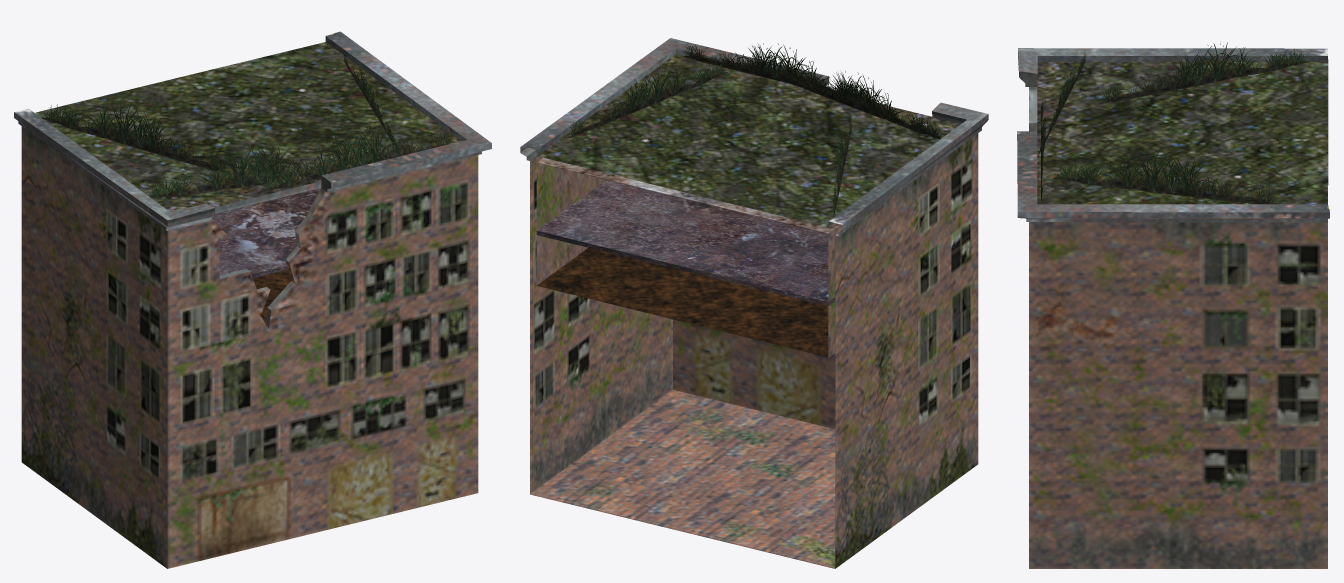
The model's file is Apocalypse_City_Building.FBX.
The picture shows the model from 3 angles, left to right: view 1: azimuth 30°, elevation 25°; view 2: azimuth 150°, elevation 25°; view 3: azimuth 270°, elevation 25°; orthographic projection. The views are drawn at different scales.
Parts seen in each view (by area): view 1: Box001, Box002, Plane003, Plane002, Plane001, Plane004; view 2: Box001, Box002, Plane001, Plane004, Plane002, Plane003; view 3: Box001, Plane004, Plane003, Plane002.
Boxes of the visible parts, x1,y1,x2,y2 form: Box001: [14, 31, 491, 568]; Box002: [212, 188, 320, 278]; Plane003: [41, 101, 225, 172]; Plane002: [148, 141, 360, 198]; Plane001: [258, 127, 453, 193]; Plane004: [343, 51, 398, 150]; Box001: [520, 38, 988, 568]; Box002: [536, 180, 835, 306]; Plane001: [684, 42, 877, 103]; Plane004: [567, 62, 727, 138]; Plane002: [781, 65, 941, 139]; Plane003: [832, 116, 852, 217]; Box001: [1017, 48, 1329, 568]; Plane004: [1053, 147, 1276, 204]; Plane003: [1099, 42, 1310, 103]; Plane002: [1038, 53, 1085, 155].
Size of the model in its own units: 76.07 by 87.23 by 61.35.
3 materials, 3 textured.
